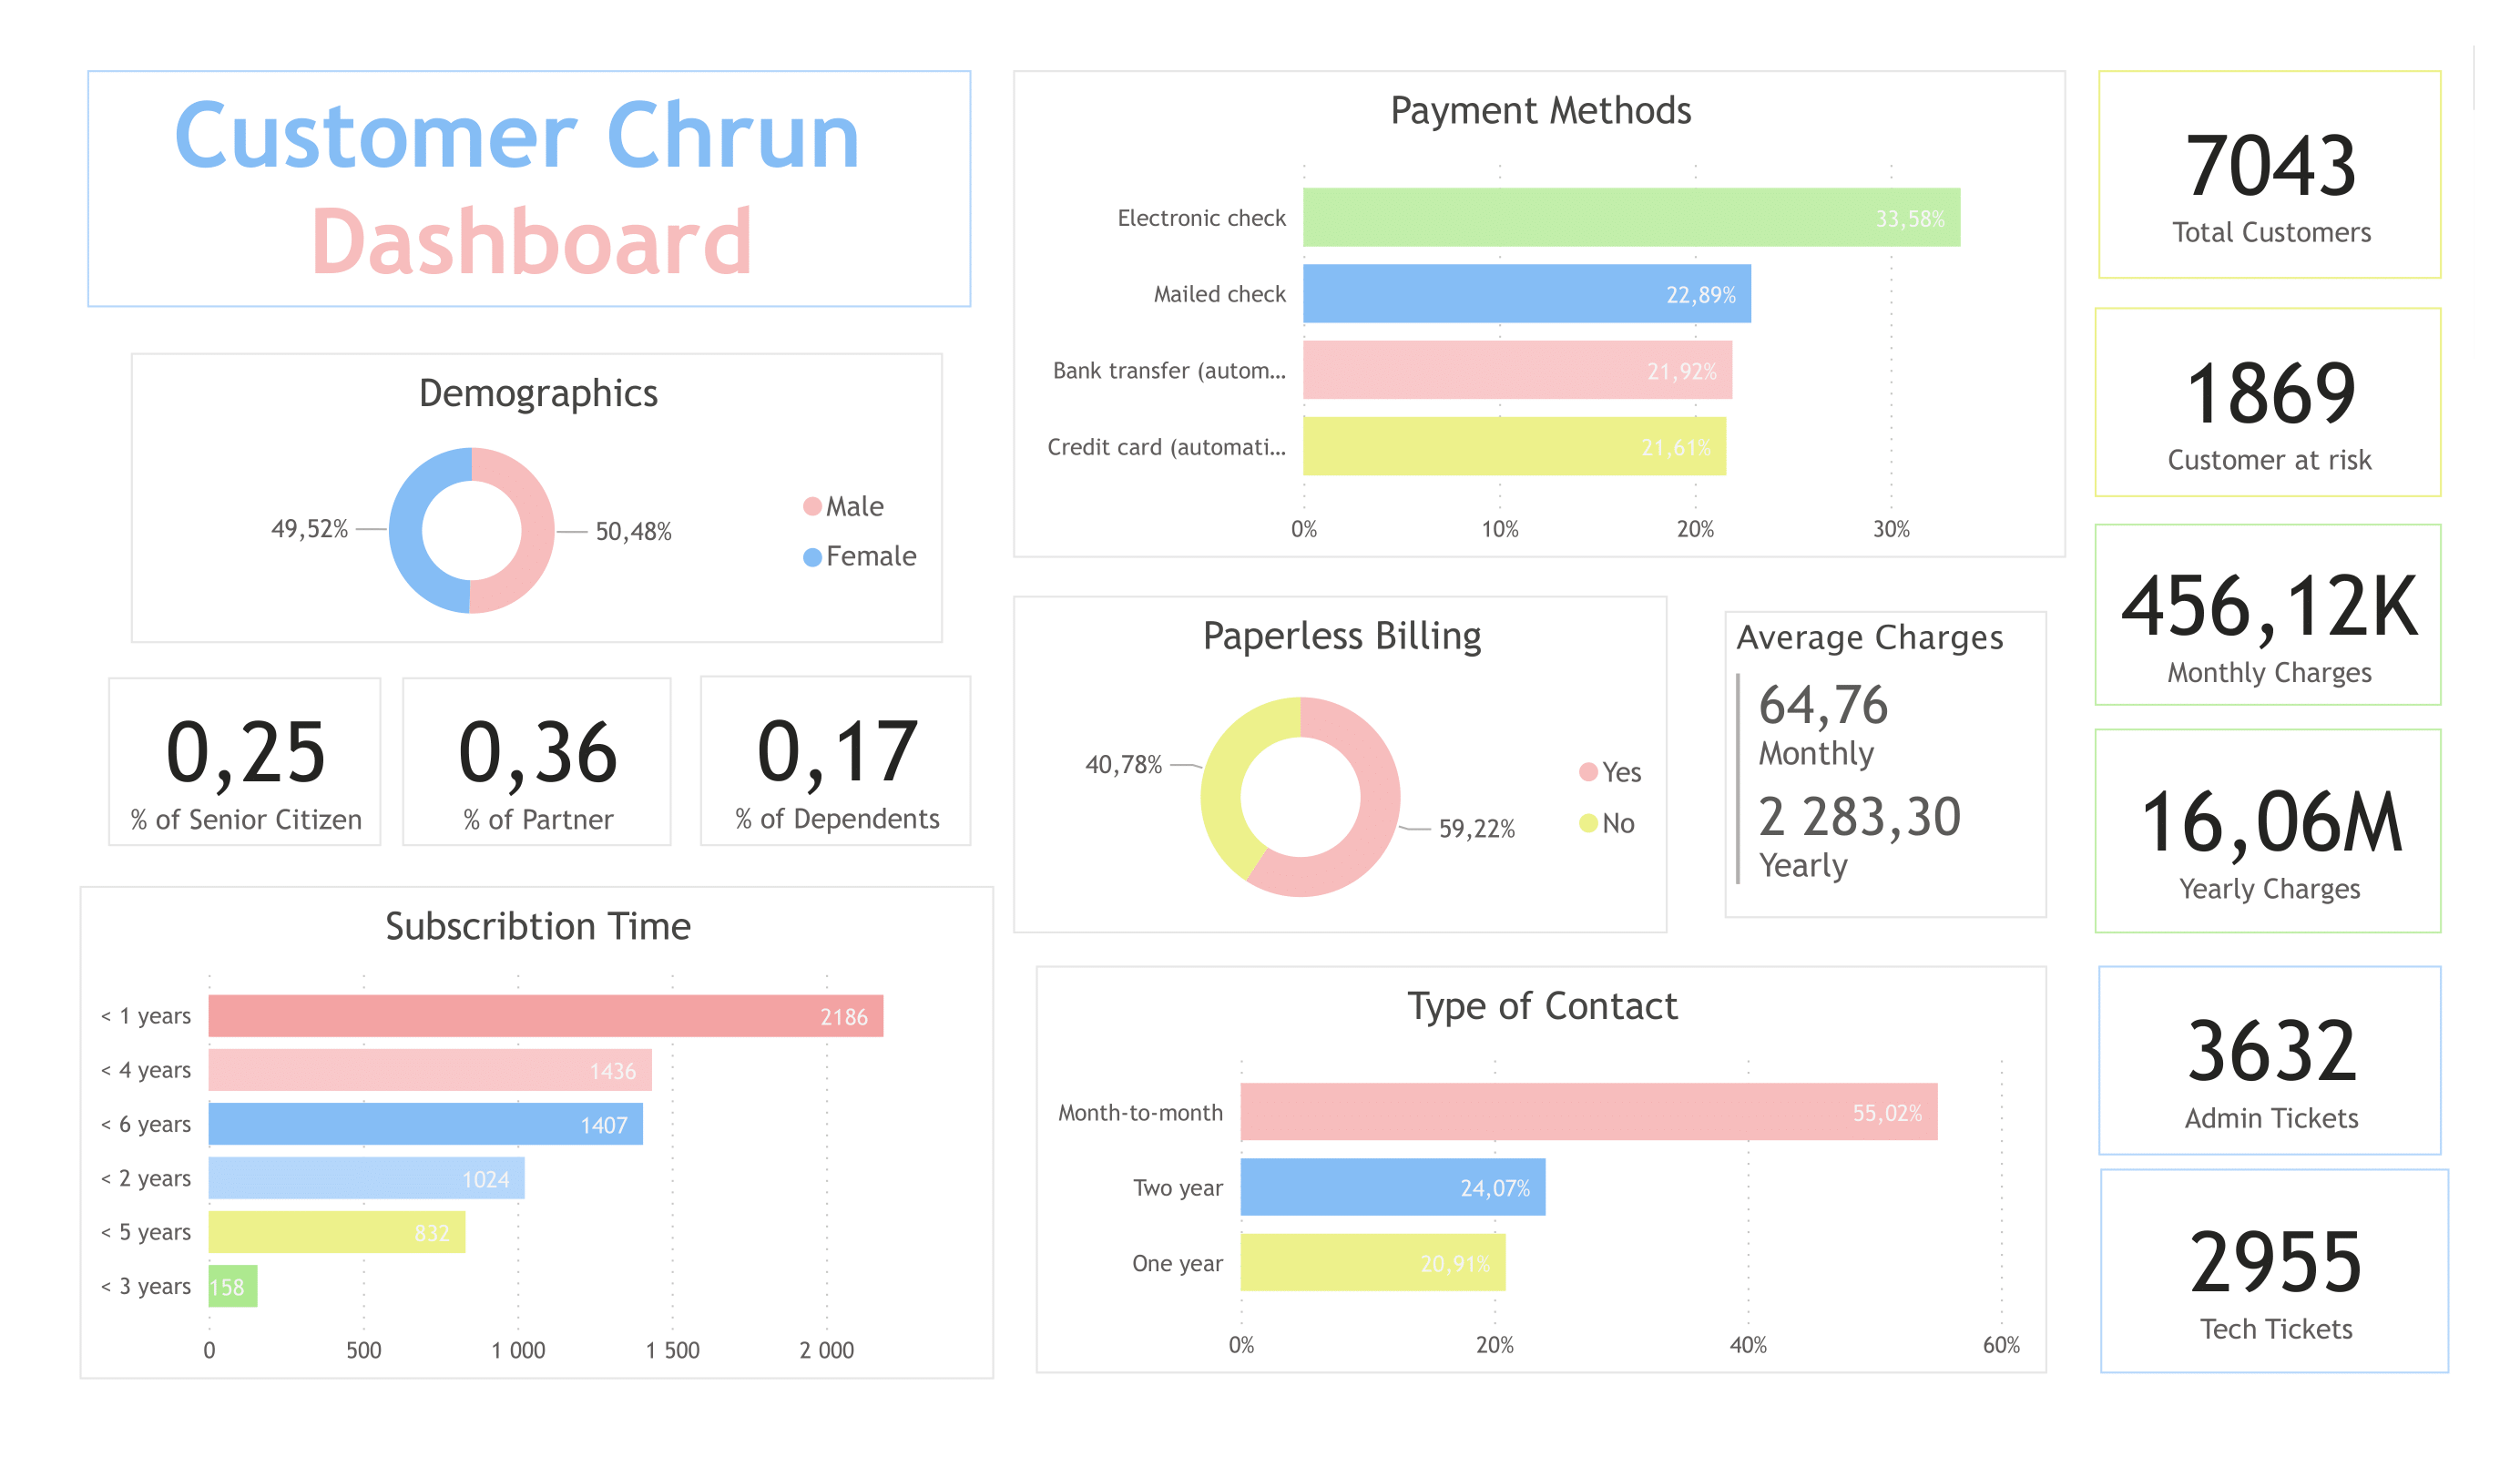

The dashboard page shown, as its layout file describes it:
{"tool":"powerbi","page":{"name":"Page 1","canvas":[1280,720],"ordinal":0},"visuals":[{"type":"card","fields":{"Values":["Sum(01 Churn-Dataset.MonthlyCharges)"]},"box":[1080,251.7,183.3,96.7],"z":0},{"type":"card","fields":{"Values":["CountNonNull(01 Churn-Dataset.customerID)"]},"box":[1080,138.3,183.3,100],"z":1000},{"type":"card","fields":{"Values":["Sum(01 Churn-Dataset.TotalCharges)"]},"box":[1080,360,183.3,108.3],"z":2000},{"type":"card","fields":{"Values":["Sum(01 Churn-Dataset.numTechTickets)"]},"box":[1083.3,591.7,183.3,108.3],"z":3000},{"type":"card","fields":{"Values":["Sum(01 Churn-Dataset.numAdminTickets)"]},"box":[1081.7,485,181.7,100],"z":4000},{"type":"donutChart","title":"Demographics","fields":{"Category":["01 Churn-Dataset.gender"],"Y":["CountNonNull(01 Churn-Dataset.gender)"]},"box":[45,161.7,428.3,153.3],"z":5000},{"type":"card","fields":{"Values":["Churn.% of Senior Citizen"]},"box":[33.3,333.3,143.3,88.3],"z":6000},{"type":"card","fields":{"Values":["Churn.% of Dependents"]},"box":[345,331.7,143.3,90],"z":7000},{"type":"card","fields":{"Values":["Churn.% of Partner"]},"box":[188.3,333.3,141.7,88.3],"z":8000},{"type":"clusteredBarChart","title":" Payment Methods","fields":{"Y":["CountNonNull(Churn.PaymentMethod)"],"Category":["Churn.PaymentMethod"]},"box":[510,13.3,555,256.7],"z":9000},{"type":"clusteredBarChart","title":"Subscribtion Time","fields":{"Y":["CountNonNull(Churn.Churn)"],"Category":["Churn.Tunre in Yerars"]},"box":[18.3,443.3,481.7,260],"z":10000},{"type":"donutChart","title":"Paperless Billing","fields":{"Category":["Churn.PaperlessBilling"],"Y":["CountNonNull(Churn.PaperlessBilling)"]},"box":[510,290,345,178.3],"z":11000},{"type":"multiRowCard","title":"Average Charges","fields":{"Values":["Avg(Churn.MonthlyCharges)","Avg(Churn.TotalCharges)"]},"box":[885,298.3,170,161.7],"z":12000},{"type":"clusteredBarChart","title":"Type of Contact","fields":{"Category":["Churn.Contract"],"Y":["CountNonNull(Churn.Contract)"]},"box":[521.7,485,533.3,215],"z":13000},{"type":"card","fields":{"Values":["CountNonNull(Churn.customerID)"]},"box":[1081.7,13.3,181.7,110],"z":14000},{"type":"textbox","box":[21.7,13.3,466.7,125],"z":15000}]}

Visuals, with their boxes in screenshot pixels (x1, y1, x2, y2):
card - Sum(01 Churn-Dataset.MonthlyCharges): {"left": 2095, "top": 523, "right": 2443, "bottom": 707}
card - CountNonNull(01 Churn-Dataset.customerID): {"left": 2095, "top": 308, "right": 2443, "bottom": 497}
card - Sum(01 Churn-Dataset.TotalCharges): {"left": 2095, "top": 728, "right": 2443, "bottom": 934}
card - Sum(01 Churn-Dataset.numTechTickets): {"left": 2101, "top": 1168, "right": 2449, "bottom": 1373}
card - Sum(01 Churn-Dataset.numAdminTickets): {"left": 2098, "top": 965, "right": 2443, "bottom": 1156}
"Demographics" donutChart: {"left": 131, "top": 352, "right": 944, "bottom": 643}
card - Churn.% of Senior Citizen: {"left": 108, "top": 678, "right": 381, "bottom": 845}
card - Churn.% of Dependents: {"left": 700, "top": 675, "right": 972, "bottom": 846}
card - Churn.% of Partner: {"left": 403, "top": 678, "right": 672, "bottom": 845}
" Payment Methods" clusteredBarChart: {"left": 1014, "top": 71, "right": 2066, "bottom": 557}
"Subscribtion Time" clusteredBarChart: {"left": 80, "top": 887, "right": 995, "bottom": 1380}
"Paperless Billing" donutChart: {"left": 1014, "top": 596, "right": 1668, "bottom": 934}
"Average Charges" multiRowCard: {"left": 1725, "top": 611, "right": 2047, "bottom": 918}
"Type of Contact" clusteredBarChart: {"left": 1036, "top": 965, "right": 2047, "bottom": 1373}
card - CountNonNull(Churn.customerID): {"left": 2098, "top": 71, "right": 2443, "bottom": 280}
textbox: {"left": 87, "top": 71, "right": 973, "bottom": 308}
